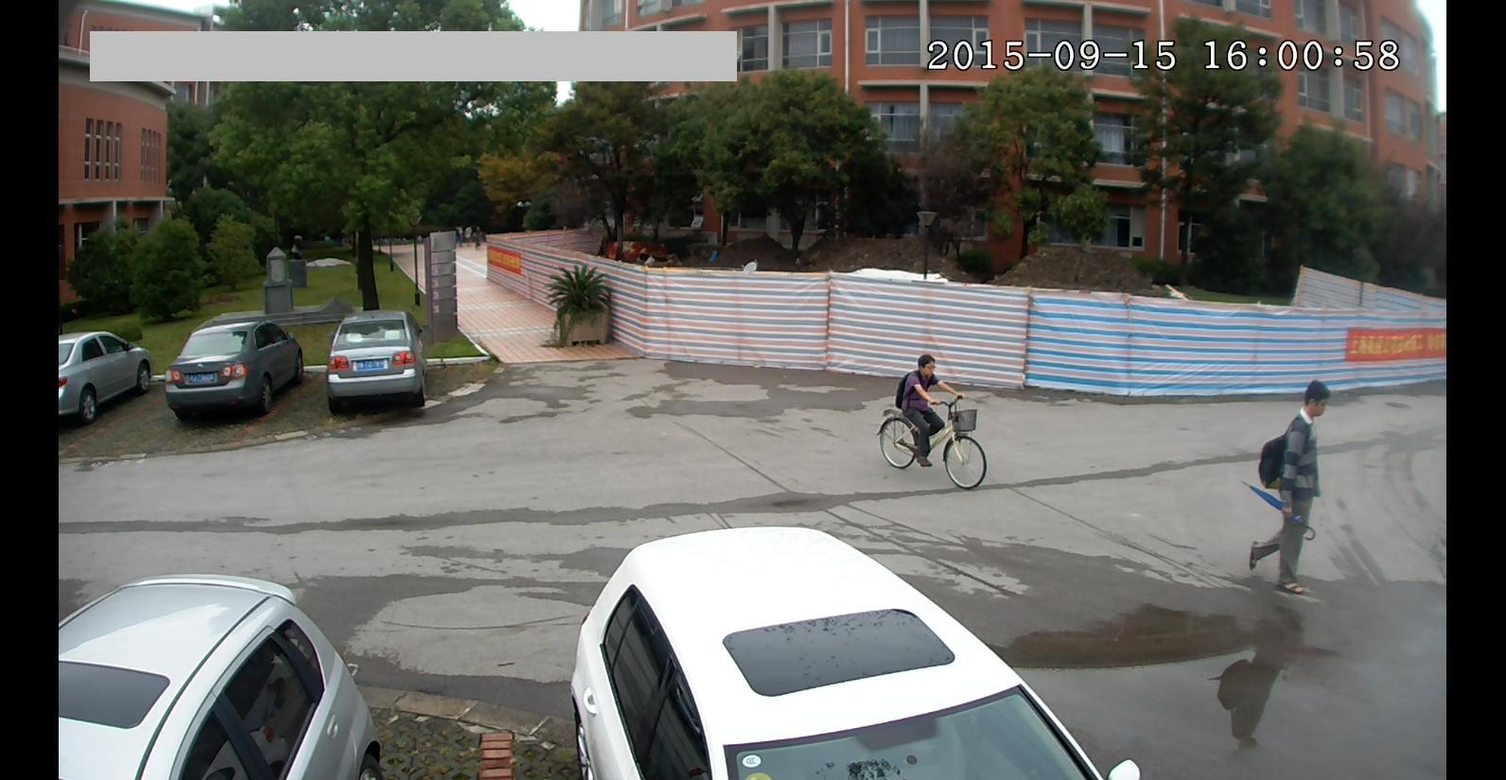person: (1242, 373, 1340, 600), (897, 344, 944, 472)
